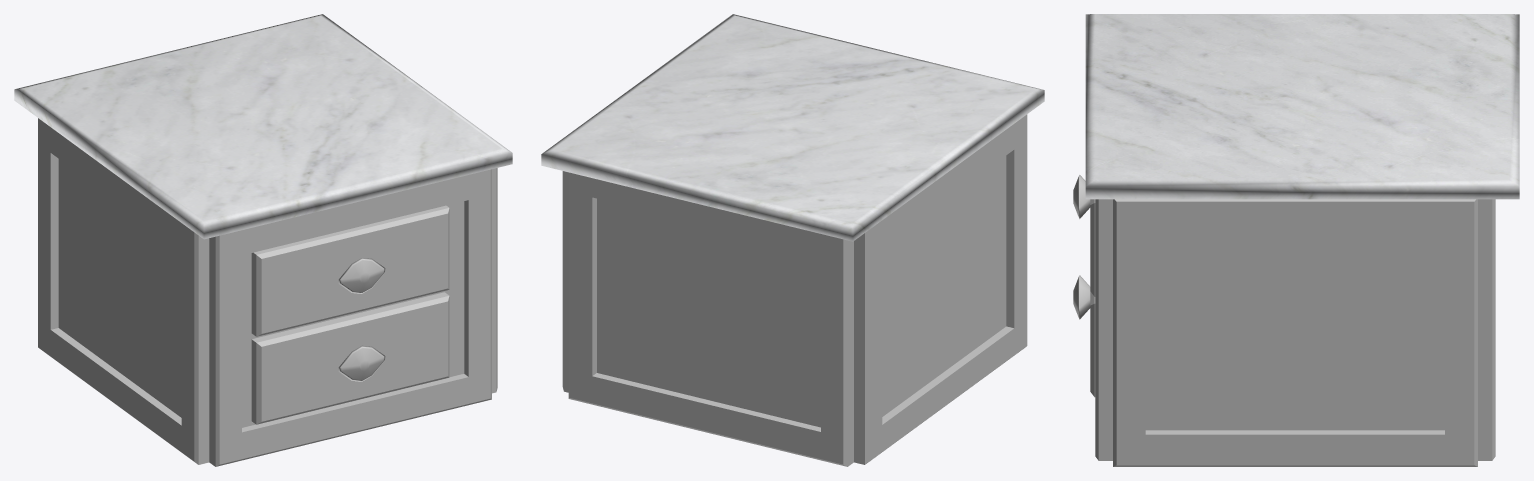
Rendered from Bedside.fbx.
3 views of the same model, side by side, from view 1: azimuth 30°, elevation 25°; view 2: azimuth 150°, elevation 25°; view 3: azimuth 270°, elevation 25° (orthographic). The views are drawn at different scales.
Visible parts, largest first — view 1: Bedside; view 2: Bedside; view 3: Bedside.
Part boxes in pixels (x1,y1,x2,y2): Bedside: [14, 14, 512, 466]; Bedside: [541, 14, 1044, 466]; Bedside: [1073, 14, 1519, 466].
Size of the model in its own units: 76.53 by 59.24 by 83.79.
